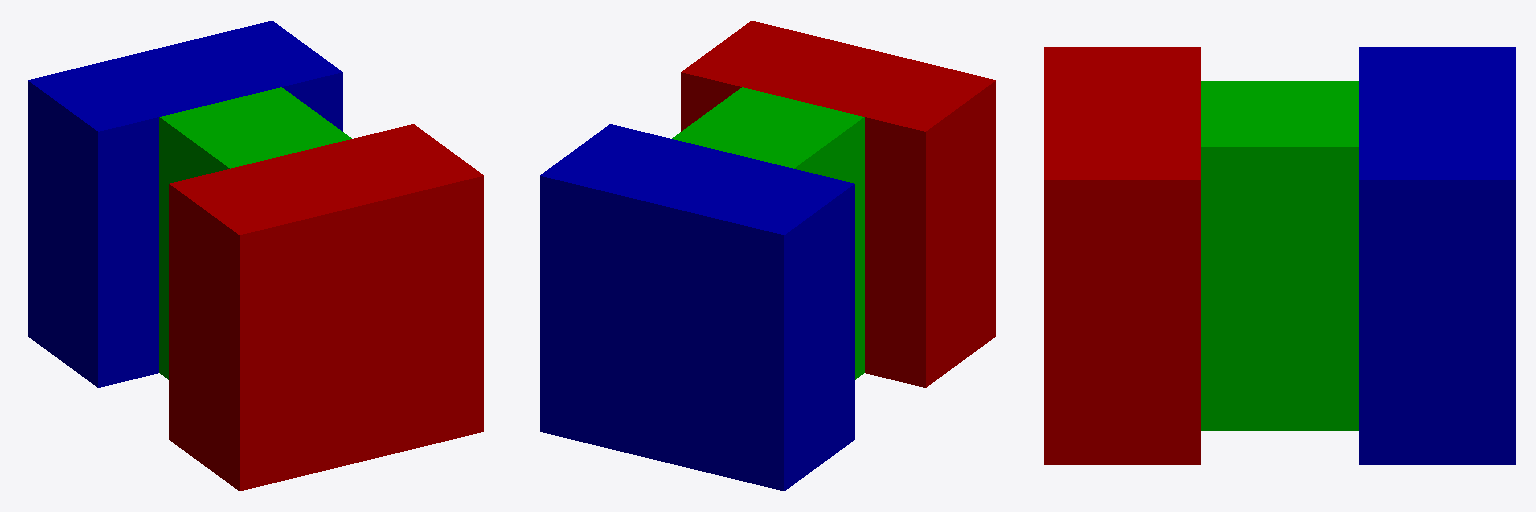
The robot description file, URDF, robot "fixed_base_test":
<?xml version="1.0" ?>
<robot name="fixed_base_test">
  <material name="red">
    <color rgba="0.7 0.0 0.0 1.0"/>
  </material>
  <material name="green">
    <color rgba="0.0 0.7 0.0 1.0"/>
  </material>
  <material name="blue">
    <color rgba="0.0 0.0 0.7 1.0"/>
  </material>
  <link name="base_box">
    <visual>
      <origin rpy="0 0 0" xyz="0 0 0"/>
      <geometry>
        <box size="0.4 0.2 0.4"/>
      </geometry>
      <material name="red"/>
    </visual>
    <collision group="2">
      <origin rpy="0 0 0" xyz="0 0 0"/>
      <geometry>
        <box size="0.4 0.2 0.4"/>
      </geometry>
    </collision>
  </link>
  <joint name="j1" type="prismatic">
    <origin rpy="0 0 0" xyz="0 0.1 0.0"/>
    <parent link="base_box" />
    <child link="link_1" />
    <axis xyz="0 0 1" />
    <limit lower="-0.4" upper="0.4" velocity="0.1" />
  <dynamics damping="100.0" /></joint>
  <link name="link_1">
    <visual>
      <origin rpy="0 0 0" xyz="0.0 0.1 0.0"/>
      <geometry>
        <box size="0.2 0.2 0.4"/>
      </geometry>
      <material name="green"/>
    </visual>
    <collision>
      <origin rpy="0 0 0" xyz="0.0 0.1 0.1"/>
      <geometry>
        <box size="0.2 0.2 0.2"/>
      </geometry>
    </collision>
  </link>
  <joint name="j2" type="fixed">
    <origin rpy="0 0 0" xyz="0 0.4 0"/>
    <parent link="base_box"/>
    <child link="link_2"/>
  </joint>
  <link name="link_2">
    <visual>
      <origin rpy="0 0 0" xyz="0.0 0.0 0.0"/>
      <geometry>
        <box size="0.4 0.2 0.4"/>
      </geometry>
      <material name="blue"/>
    </visual>
    <collision group="2">
      <origin rpy="0 0 0" xyz="0.0 0.0 0.0"/>
      <geometry>
        <box size="0.4 0.2 0.4"/>
      </geometry>
    </collision>
  </link>
</robot>

--- What the picture shows (computed from the rendered views, not written in the file) ---
3 views of the same robot in one strip: view 1: azimuth 30°, elevation 25°; view 2: azimuth 150°, elevation 25°; view 3: azimuth 270°, elevation 25° (orthographic).
Robot: fixed_base_test — 3 links, 2 joints (1 prismatic, 1 fixed); root link base_box; default pose: all joints at 0.
Links seen in each view (by area): view 1: base_box, link_2, link_1; view 2: link_2, base_box, link_1; view 3: base_box, link_2, link_1.
Boxes of the visible links, x1,y1,x2,y2 form: base_box: [169, 124, 483, 490]; link_2: [28, 21, 342, 387]; link_1: [159, 87, 351, 379]; link_2: [540, 124, 854, 490]; base_box: [681, 21, 995, 387]; link_1: [672, 87, 864, 379]; base_box: [1044, 47, 1200, 464]; link_2: [1359, 47, 1515, 464]; link_1: [1201, 81, 1358, 430].
Size in the robot's own frame: 0.4 by 0.6 by 0.4 metres.
Geometry: primitives only (box / cylinder / sphere), no mesh files.